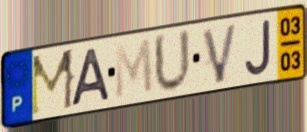A: (68, 46, 113, 109)
J: (243, 17, 273, 78)
M: (29, 46, 77, 119), (113, 36, 155, 103)
U: (152, 26, 194, 96)
V: (200, 20, 240, 86)
